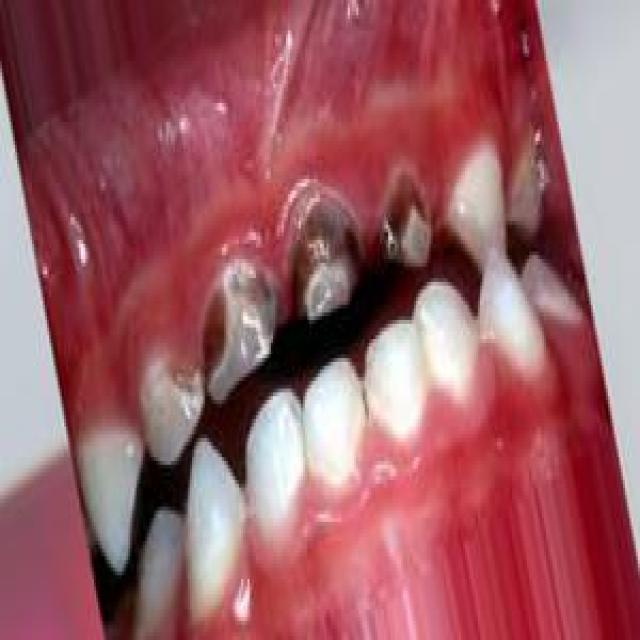caries: (194, 257, 281, 406), (287, 194, 366, 326), (378, 165, 441, 284), (152, 347, 207, 424)
